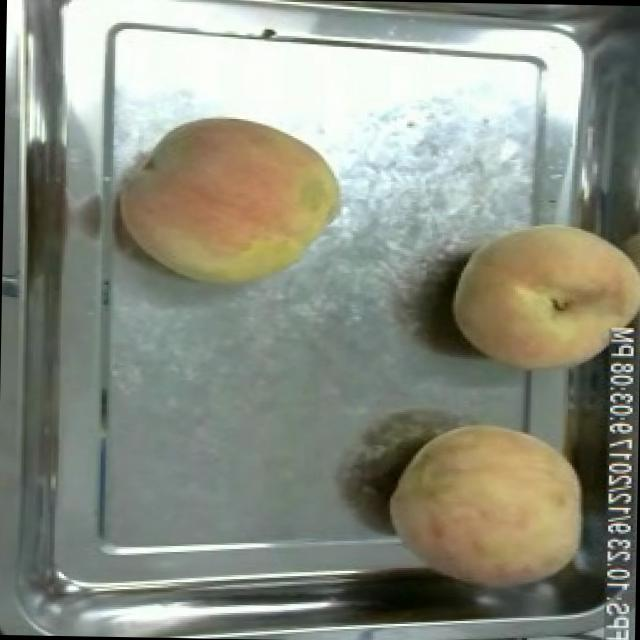Fruit: (112, 105, 348, 296), (378, 413, 598, 599), (441, 210, 640, 383)
